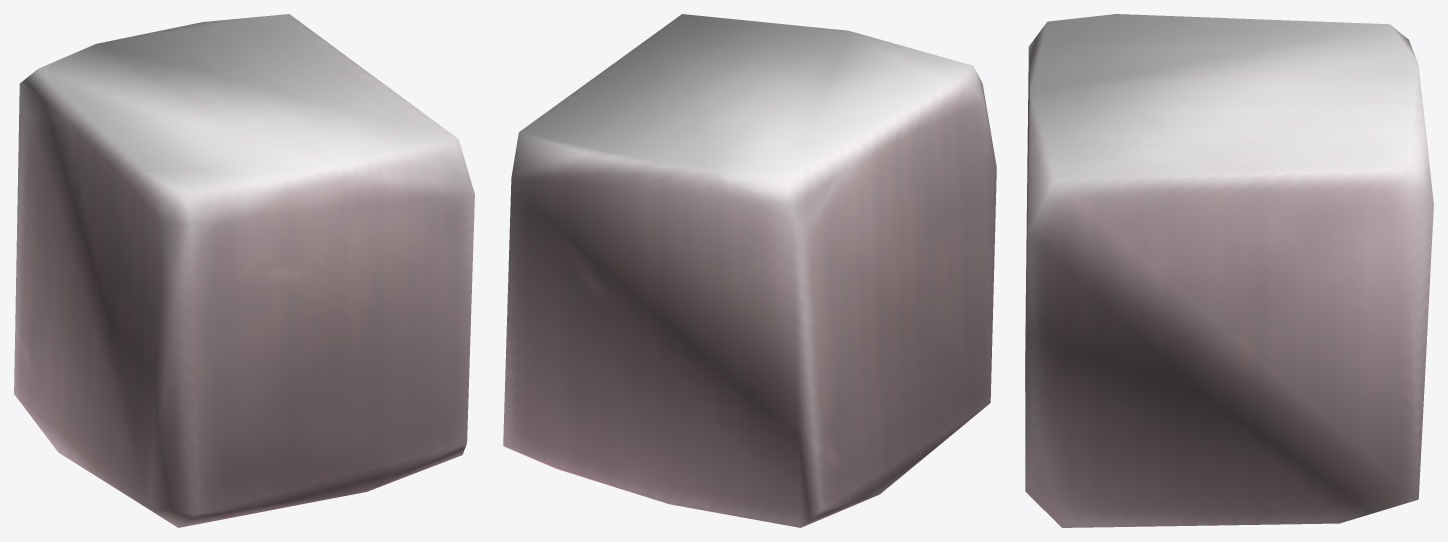
File: SM_Gem_Halite_Piece_003.fbx
The picture shows the model from 3 angles, left to right: view 1: azimuth 30°, elevation 25°; view 2: azimuth 150°, elevation 25°; view 3: azimuth 270°, elevation 25°; orthographic projection. The views are drawn at different scales.
Parts seen in each view (by area): view 1: SM_Gem_Halite_Piece_003; view 2: SM_Gem_Halite_Piece_003; view 3: SM_Gem_Halite_Piece_003.
Part boxes in pixels (x1,y1,x2,y2): SM_Gem_Halite_Piece_003: (14, 14, 474, 527); SM_Gem_Halite_Piece_003: (503, 14, 996, 527); SM_Gem_Halite_Piece_003: (1025, 14, 1433, 527).
Size of the model in its own units: 10.93 by 11.48 by 11.65.
